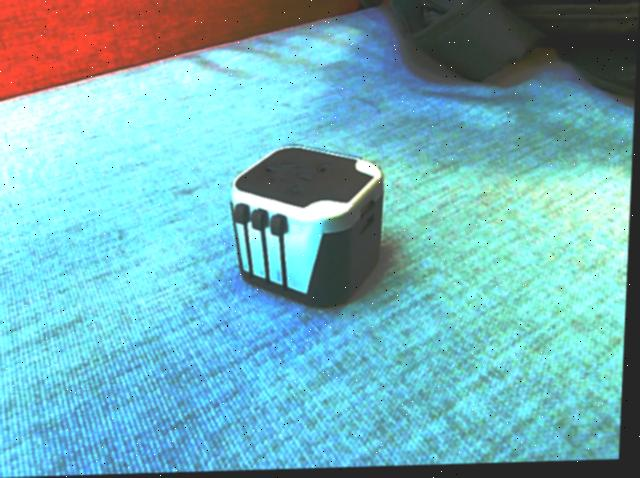adapter: (226, 143, 387, 312)
